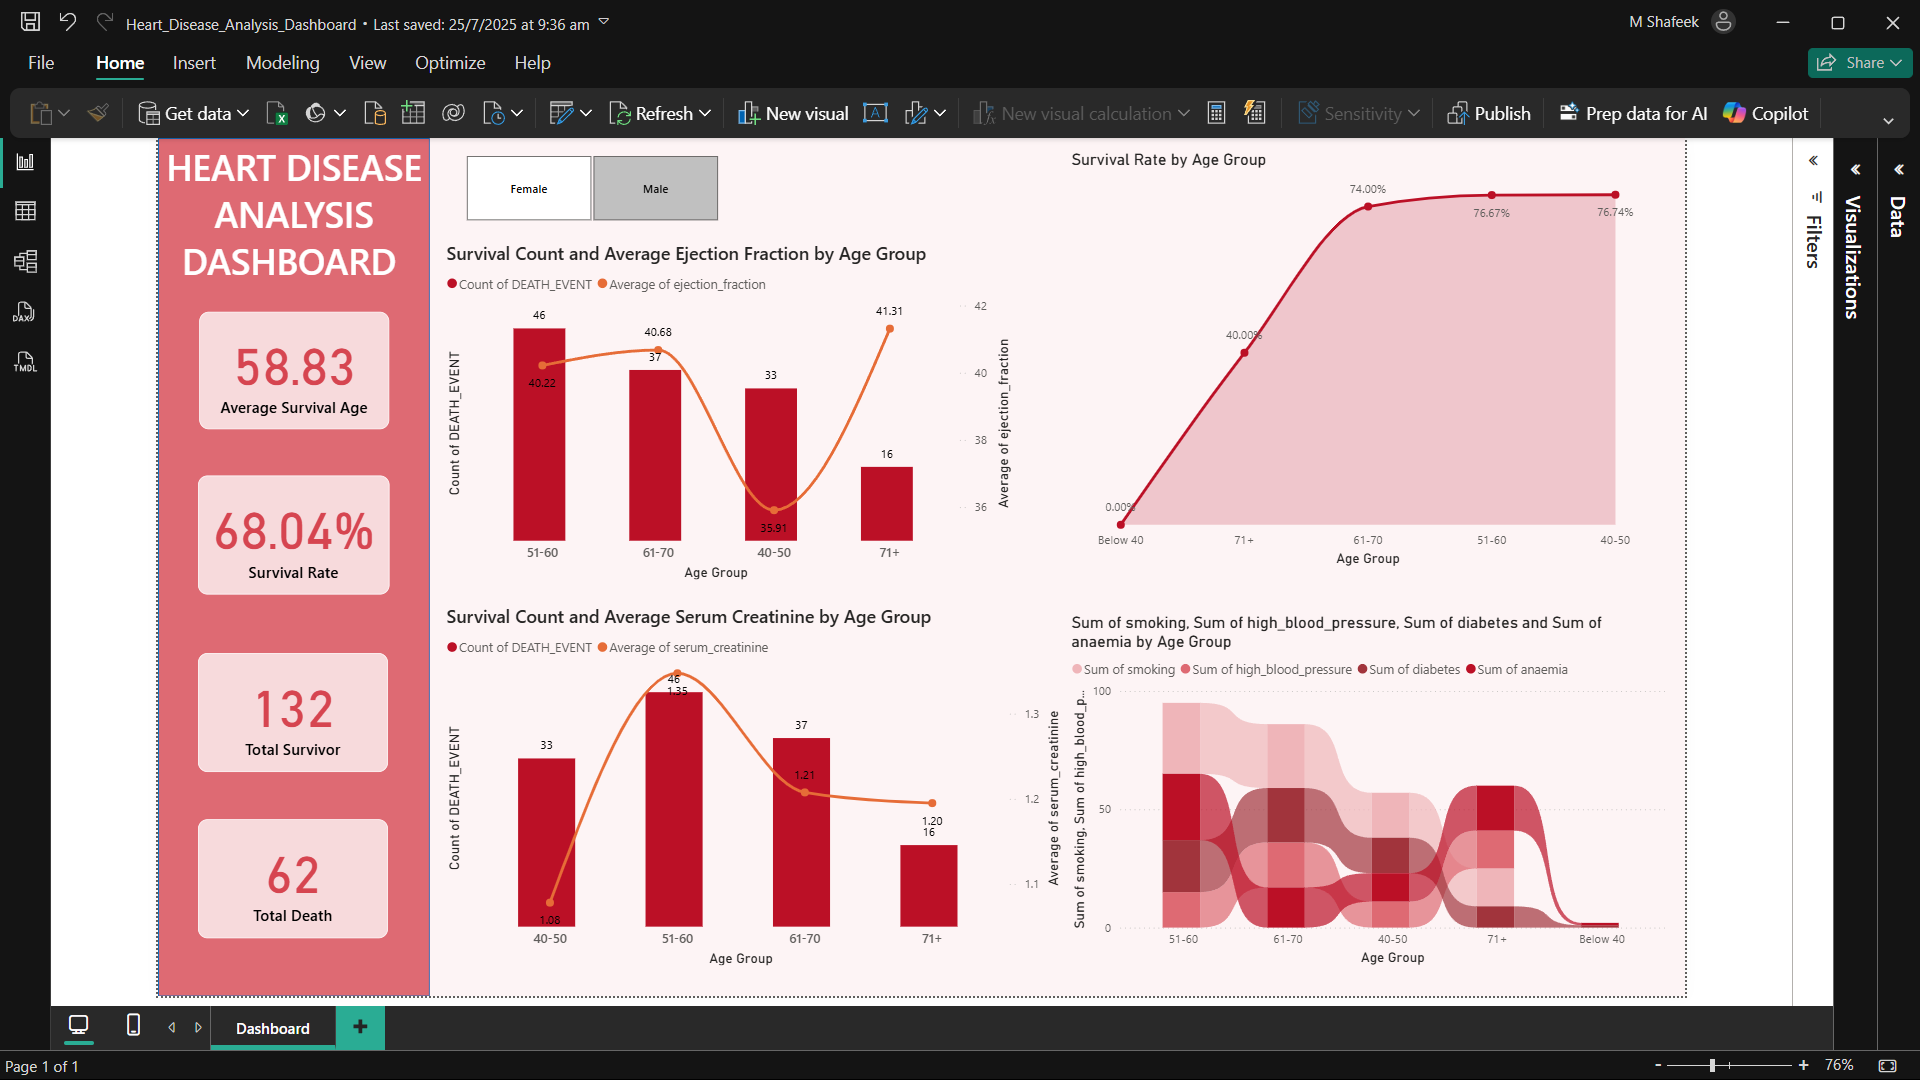

The page's visual inventory and layout, read from the dashboard file:
{"tool":"powerbi","page":{"name":"Dashboard","canvas":[1600,900],"ordinal":0},"visuals":[{"type":"lineClusteredColumnComboChart","title":"Survival Count and Average Serum Creatinine by Age Group","fields":{"Category":["heart_Disease_clinical_records_.Age Group"],"Y":["CountNonNull(heart_Disease_clinical_records_.DEATH_EVENT)"],"Y2":["Avg(heart_Disease_clinical_records_.serum_creatinine)"]},"box":[298,488.4,654.1,383.7],"z":0},{"type":"lineChart","fields":{"Category":["heart_Disease_clinical_records_.Age Group"],"Y":["heart_Disease_clinical_records_.Survival Rate"]},"box":[952,11.6,632.3,441.9],"z":1000},{"type":"lineClusteredColumnComboChart","title":"Survival Count and Average Ejection Fraction by Age Group","fields":{"Category":["heart_Disease_clinical_records_.Age Group"],"Y2":["Avg(heart_Disease_clinical_records_.ejection_fraction)"],"Y":["CountNonNull(heart_Disease_clinical_records_.DEATH_EVENT)"]},"box":[298,107.6,601.7,360.5],"z":2000},{"type":"ribbonChart","fields":{"Category":["heart_Disease_clinical_records_.Age Group"],"Y":["Sum(heart_Disease_clinical_records_.smoking)","Sum(heart_Disease_clinical_records_.high_blood_pressure)","Sum(heart_Disease_clinical_records_.diabetes)","Sum(heart_Disease_clinical_records_.anaemia)"]},"box":[952,498.5,632.3,373.5],"z":3000},{"type":"shape","box":[0,0,285,900],"z":4000},{"type":"textbox","box":[0,0,284.9,161.3],"z":5000},{"type":"card","fields":{"Values":["heart_Disease_clinical_records_.Average Survival Age"]},"box":[43.6,181.7,199.1,123.5],"z":6000},{"type":"card","fields":{"Values":["heart_Disease_clinical_records_.Survival Rate"]},"box":[42.2,353.2,200.6,125],"z":7000},{"type":"card","fields":{"Values":["heart_Disease_clinical_records_.Total Survivor"]},"box":[42.2,539.2,199.1,125],"z":8000},{"type":"card","fields":{"Values":["heart_Disease_clinical_records_.Total Death"]},"box":[42.2,713.7,199.1,125],"z":9000},{"type":"slicer","fields":{"Values":["heart_Disease_clinical_records_.Gender"]},"box":[298,11.6,314,81.4],"z":9001},{"type":"textbox","box":[344.5,0,247.1,46.5],"z":9002}]}

Visuals, with their boxes on the page's 1600x900 design canvas (x1, y1, x2, y2). These are canvas units, not pixel positions in the 1920x1080 screenshot, which may show the page scaled, cropped or inside an application window:
"Survival Count and Average Serum Creatinine by Age Group" lineClusteredColumnComboChart: {"left": 298, "top": 488, "right": 952, "bottom": 872}
lineChart - heart_Disease_clinical_records_.Age Group x heart_Disease_clinical_records_.Survival Rate: {"left": 952, "top": 12, "right": 1584, "bottom": 454}
"Survival Count and Average Ejection Fraction by Age Group" lineClusteredColumnComboChart: {"left": 298, "top": 108, "right": 900, "bottom": 468}
ribbonChart - heart_Disease_clinical_records_.Age Group x Sum(heart_Disease_clinical_records_.smoking): {"left": 952, "top": 498, "right": 1584, "bottom": 872}
shape: {"left": 0, "top": 0, "right": 285, "bottom": 900}
textbox: {"left": 0, "top": 0, "right": 285, "bottom": 161}
card - heart_Disease_clinical_records_.Average Survival Age: {"left": 44, "top": 182, "right": 243, "bottom": 305}
card - heart_Disease_clinical_records_.Survival Rate: {"left": 42, "top": 353, "right": 243, "bottom": 478}
card - heart_Disease_clinical_records_.Total Survivor: {"left": 42, "top": 539, "right": 241, "bottom": 664}
card - heart_Disease_clinical_records_.Total Death: {"left": 42, "top": 714, "right": 241, "bottom": 839}
slicer - heart_Disease_clinical_records_.Gender: {"left": 298, "top": 12, "right": 612, "bottom": 93}
textbox: {"left": 344, "top": 0, "right": 592, "bottom": 46}
